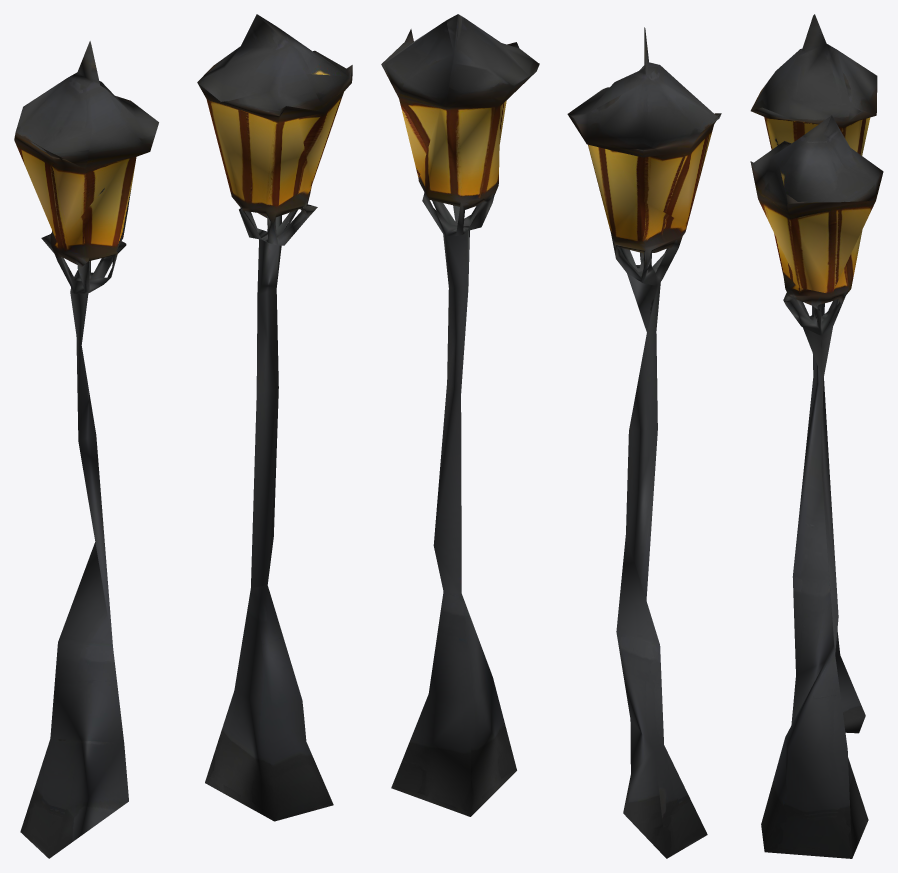
File: lantern.glb
3 renders of one model, left to right at view 1: azimuth 30°, elevation 25°; view 2: azimuth 150°, elevation 25°; view 3: azimuth 270°, elevation 25°, orthographic. The views are drawn at different scales.
Visible parts, largest first — view 1: tripo_node_e55db3a9-8b72-4dc7-8bdd-baa76373e1ec; view 2: tripo_node_e55db3a9-8b72-4dc7-8bdd-baa76373e1ec; view 3: tripo_node_e55db3a9-8b72-4dc7-8bdd-baa76373e1ec.
Part boxes in pixels (x1,y1,x2,y2): tripo_node_e55db3a9-8b72-4dc7-8bdd-baa76373e1ec: [14, 14, 352, 858]; tripo_node_e55db3a9-8b72-4dc7-8bdd-baa76373e1ec: [381, 14, 721, 858]; tripo_node_e55db3a9-8b72-4dc7-8bdd-baa76373e1ec: [750, 14, 883, 858].
Size of the model in its own units: 0.4094 by 0.9991 by 0.1627.
1 material, 1 textured.
